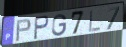7: (70, 10, 85, 36), (106, 7, 121, 31)
G: (51, 14, 68, 37)
L: (88, 9, 102, 34)
P: (33, 15, 50, 41), (15, 18, 32, 43)
